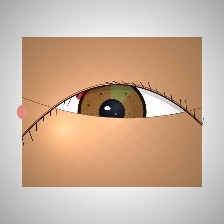hemorrhage_spot: (68, 72, 126, 118)
